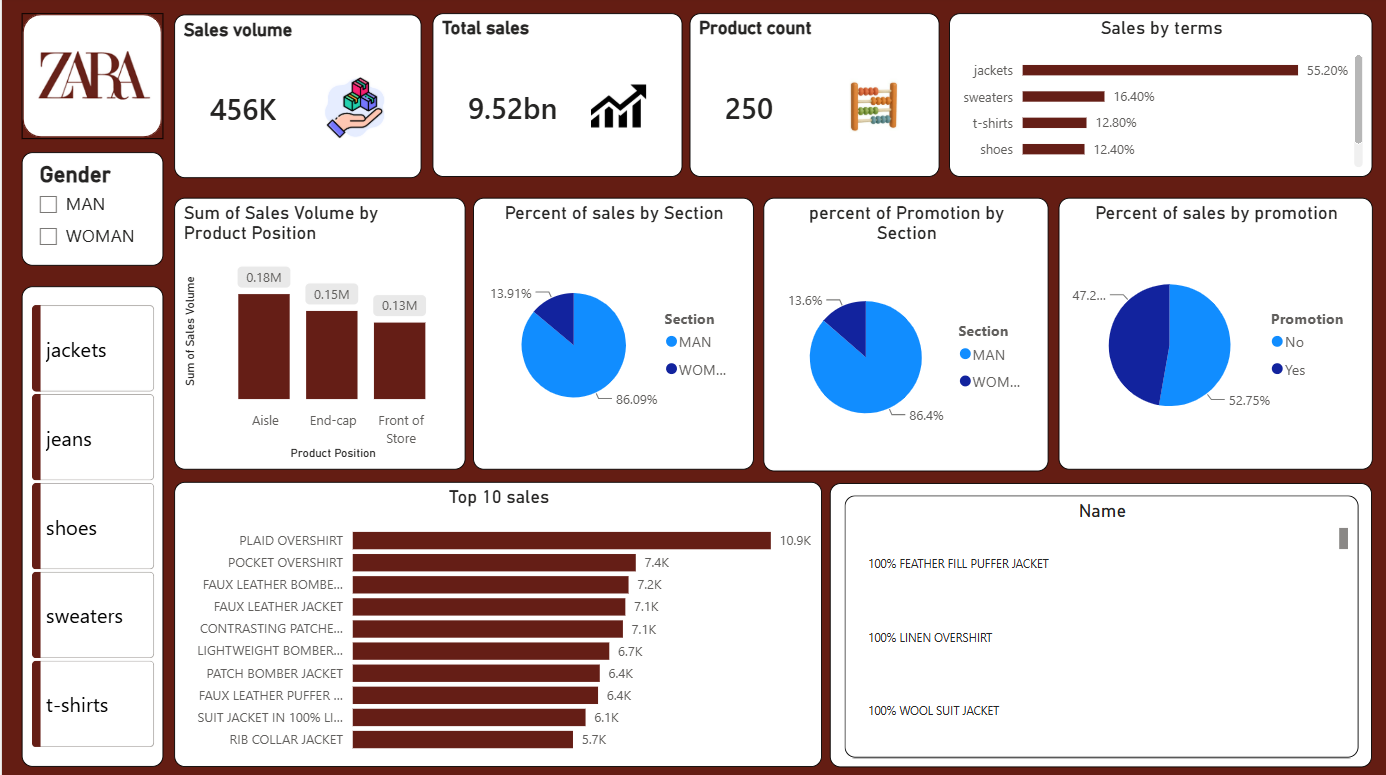

What the dashboard file says about the page in this screenshot:
{"tool":"powerbi","page":{"name":"Page 1","canvas":[1280,720],"ordinal":0},"visuals":[{"type":"shape","box":[18.2,15.9,130.7,115.9],"z":0},{"type":"image","box":[29.5,25,111.3,96.6],"z":1000},{"type":"slicer","fields":{"Values":["Zara_Sales_Analysis.Section"]},"box":[18.2,144.3,130.7,104.5],"z":2000},{"type":"shape","box":[18.2,268.1,130.7,444.3],"z":3000},{"type":"advancedSlicerVisual","fields":{"Values":["Zara_Sales_Analysis.Terms"]},"box":[22.7,280.6,123.8,422.7],"z":4000},{"type":"shape","box":[764.7,449.9,501.1,262.5],"z":5000},{"type":"advancedSlicerVisual","fields":{"Values":["Zara_Sales_Analysis.Name"]},"box":[778.3,461.3,474.9,242],"z":6000},{"type":"pieChart","title":"Percent of sales by Section","fields":{"Category":["Zara_Sales_Analysis.Section"],"Y":["Sum(Zara_Sales_Analysis.Sales Volume)"]},"box":[435.3,186,259.1,251.5],"z":7000},{"type":"pieChart","title":"percent of Promotion by Section","fields":{"Y":["CountNonNull(Zara_Sales_Analysis.Promotion)"],"Category":["Zara_Sales_Analysis.Section"]},"box":[703,186,263.4,252.6],"z":8000},{"type":"pieChart","title":"Percent of sales  by promotion","fields":{"Y":["Sum(Zara_Sales_Analysis.Sales Volume)"],"Category":["Zara_Sales_Analysis.Promotion"]},"box":[976,186,290.2,251.5],"z":9000},{"type":"clusteredBarChart","title":"Top 10 sales ","fields":{"Y":["Sum(Zara_Sales_Analysis.Sales Volume)"],"Category":["Zara_Sales_Analysis.Name"]},"box":[159.1,448.8,598.8,263.6],"z":10000},{"type":"columnChart","fields":{"Y":["Sum(Zara_Sales_Analysis.Sales Volume)"],"Category":["Zara_Sales_Analysis.Product Position"]},"box":[158.8,186.2,268.8,251.2],"z":11000},{"type":"barChart","title":"Sales by terms","fields":{"Category":["Zara_Sales_Analysis.Terms"],"Y":["CountNonNull(Zara_Sales_Analysis.Product Position)"]},"box":[875,16.2,391.2,151.2],"z":12000},{"type":"cardVisual","title":"Total sales ","fields":{"Data":["Sum(Zara_Sales_Analysis.Total)"]},"box":[397.5,16.2,231.2,151.2],"z":13000},{"type":"cardVisual","title":"Sales volume","fields":{"Data":["Sum(Zara_Sales_Analysis.Sales Volume)"]},"box":[158.8,17.5,228.8,151.2],"z":14000},{"type":"cardVisual","title":"Product count","fields":{"Data":["CountNonNull(Zara_Sales_Analysis.Product Id)"]},"box":[635,16.2,231.2,151.2],"z":15000}]}

Visuals, with their boxes in screenshot pixels (x1, y1, x2, y2), scaled from the page's 1280x720 canvas onto the 1386x775 screenshot:
shape: left=20, top=17, right=161, bottom=142
image: left=32, top=27, right=152, bottom=131
slicer - Zara_Sales_Analysis.Section: left=20, top=155, right=161, bottom=268
shape: left=20, top=289, right=161, bottom=767
advancedSlicerVisual - Zara_Sales_Analysis.Terms: left=25, top=302, right=159, bottom=757
shape: left=828, top=484, right=1371, bottom=767
advancedSlicerVisual - Zara_Sales_Analysis.Name: left=843, top=497, right=1357, bottom=757
"Percent of sales by Section" pieChart: left=471, top=200, right=752, bottom=471
"percent of Promotion by Section" pieChart: left=761, top=200, right=1046, bottom=472
"Percent of sales  by promotion" pieChart: left=1057, top=200, right=1371, bottom=471
"Top 10 sales " clusteredBarChart: left=172, top=483, right=821, bottom=767
columnChart - Sum(Zara_Sales_Analysis.Sales Volume) x Zara_Sales_Analysis.Product Position: left=172, top=200, right=463, bottom=471
"Sales by terms" barChart: left=947, top=17, right=1371, bottom=180
"Total sales " cardVisual: left=430, top=17, right=681, bottom=180
"Sales volume" cardVisual: left=172, top=19, right=420, bottom=182
"Product count" cardVisual: left=688, top=17, right=938, bottom=180
